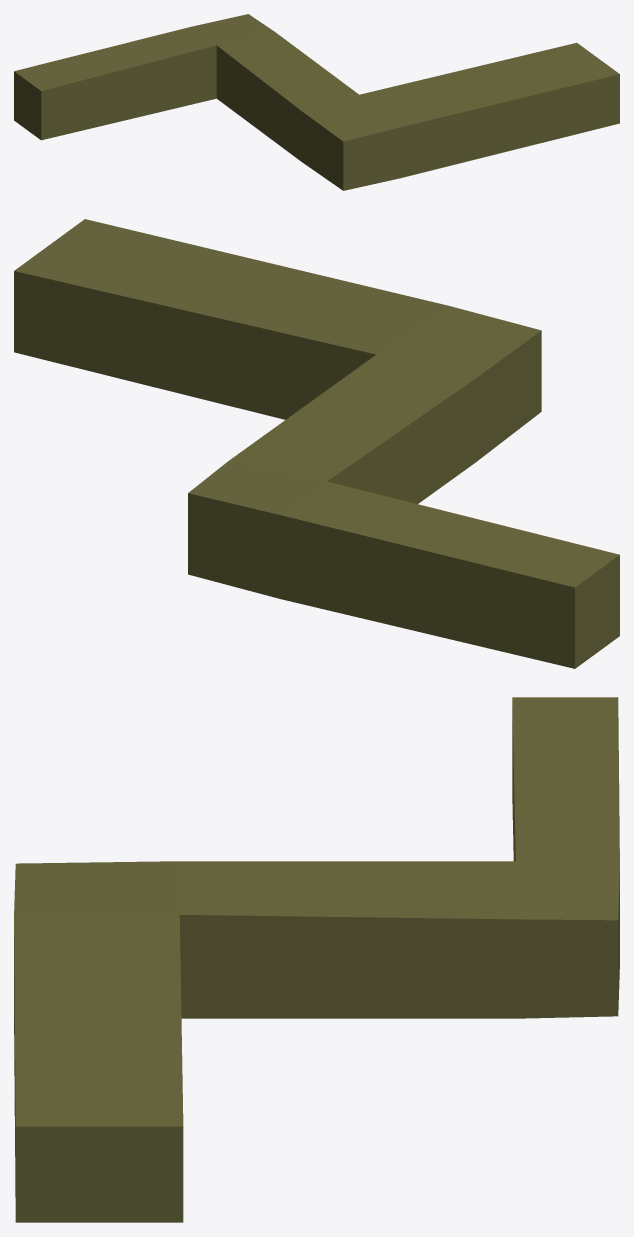
3 views of the same model, one above another, from view 1: azimuth 30°, elevation 25°; view 2: azimuth 150°, elevation 25°; view 3: azimuth 270°, elevation 25° (orthographic). The views are drawn at different scales.
Parts seen in each view (by area): view 1: Cube; view 2: Cube; view 3: Cube.
Boxes of the visible parts, x1,y1,x2,y2 form: Cube: (14,14,619,190); Cube: (14,219,619,668); Cube: (14,697,619,1222).
Size of the model in its own units: 3716 by 419 by 2216.
